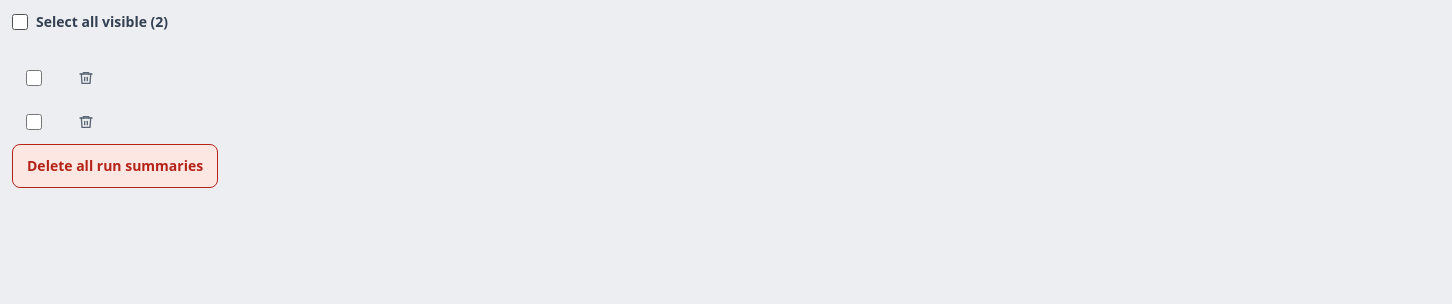
Test: RunHistoryAdminControls › shows the selection bar only while summaries are selected
The image size is (1452, 304).
Expected: the button "Delete selected" is not shown
Click the checkbox named "Select run 55555555-5555-4555-8555-555555555555". click: (34, 78)
box: [26,70,42,86]
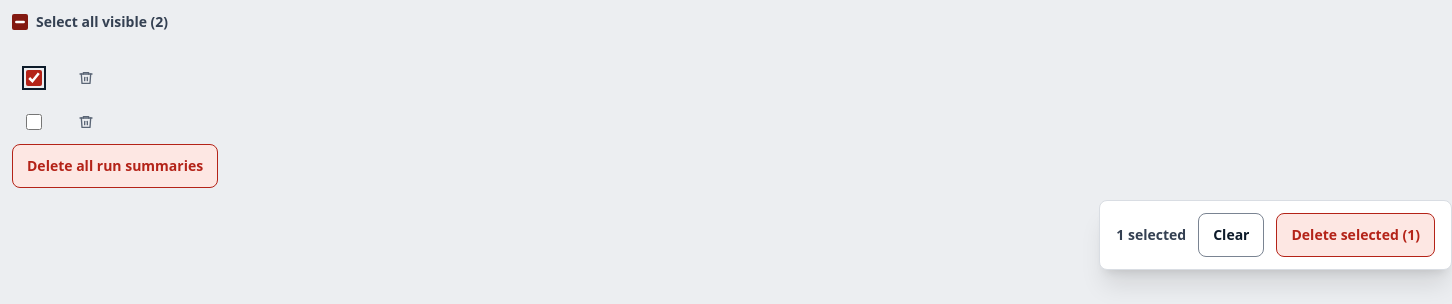
Click the checkbox named "Select run 66666666-6666-4666-8666-666666666666". click: (34, 122)
box: [26,114,42,130]
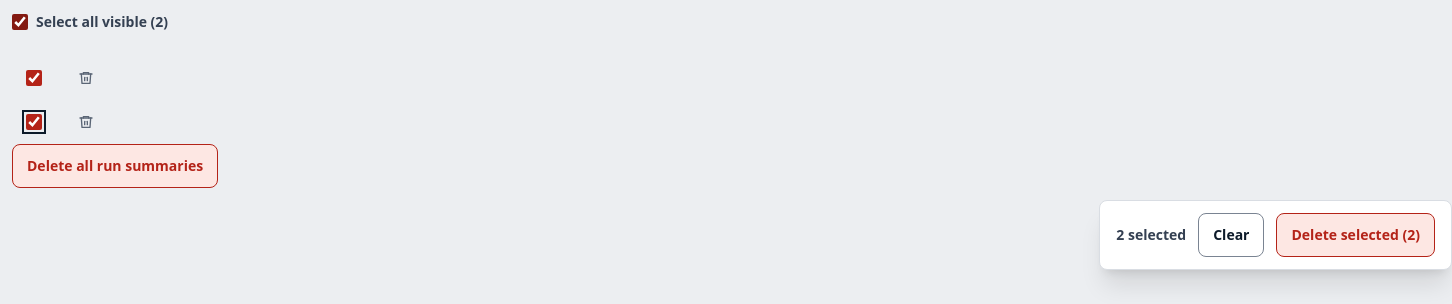
Expected: the button "Clear" is shown
Expected: the button "Delete selected (2)" is shown, [1276,213,1435,257]
Click the button "Clear". click: (1231, 235)
box: [1198,213,1264,257]
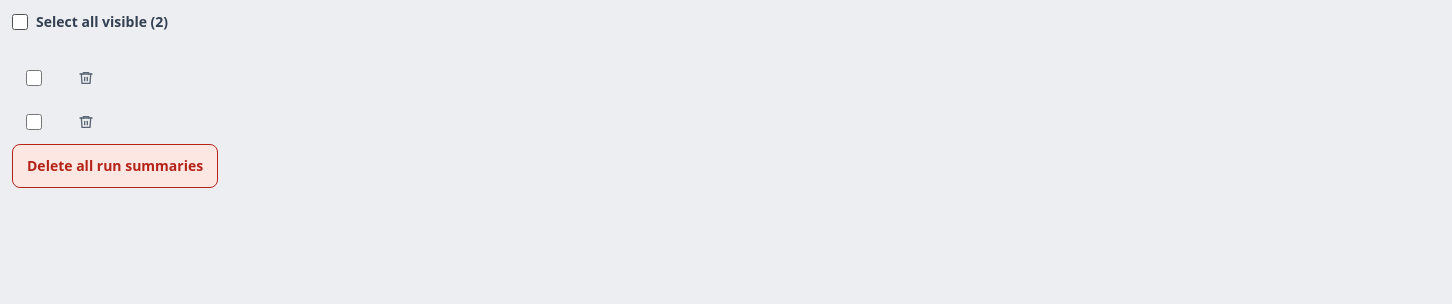
Expected: the button "Delete selected" is gone
